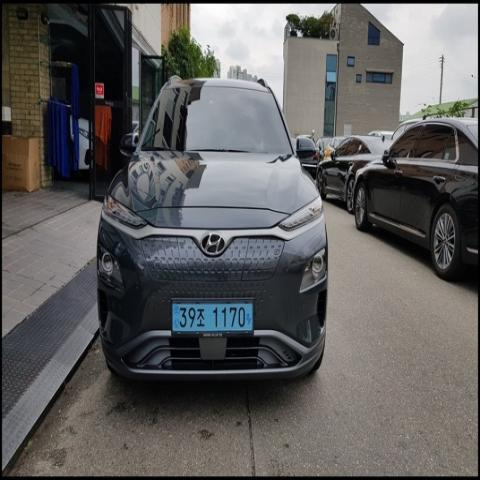LP: (168, 292, 257, 345)
